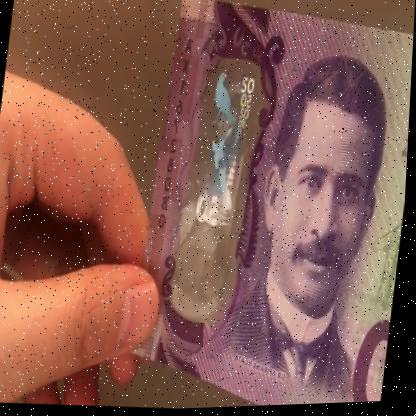50F: (178, 66, 264, 309)
